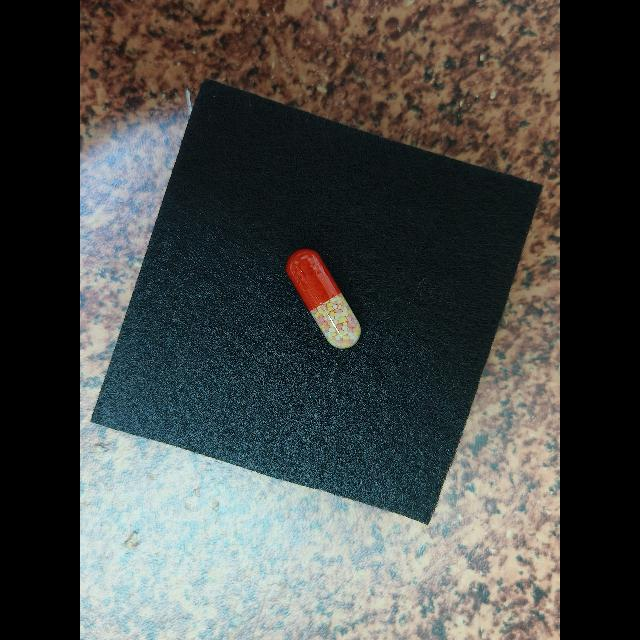Intact Capsule: (286, 249, 361, 349)
